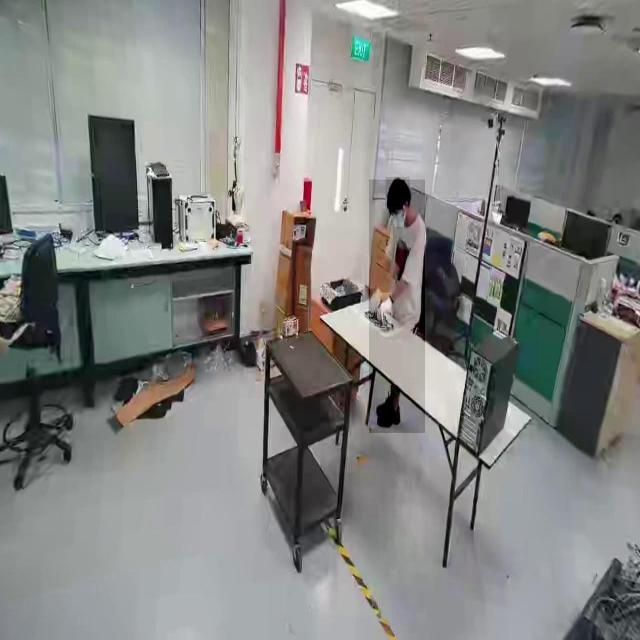face_mask: (394, 205, 406, 227)
hand_glove: (368, 289, 381, 321), (382, 292, 392, 328)
head_nohelmet: (386, 177, 410, 198)
person: (369, 180, 425, 433)
shoes: (372, 396, 402, 436)
